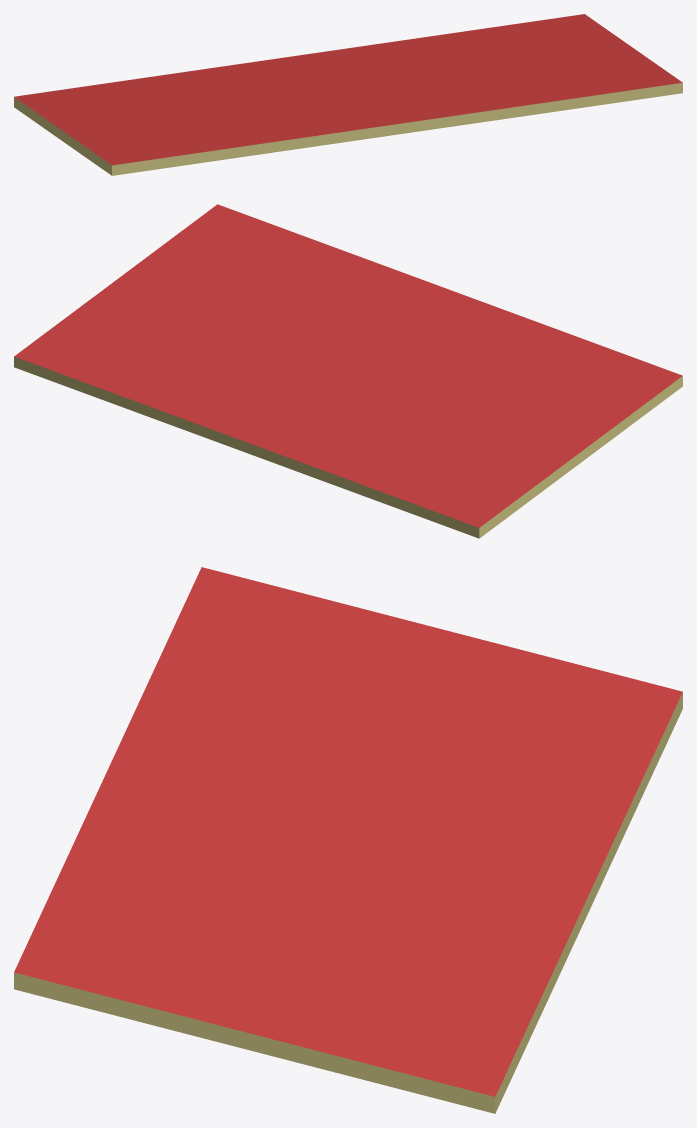
The picture shows the model from 3 angles, top to bottom: view 1: azimuth 30°, elevation 25°; view 2: azimuth 150°, elevation 25°; view 3: azimuth 270°, elevation 25°; orthographic projection. The views are drawn at different scales.
Bounding box in the file's own units: 5.61 × 3.56 × 0.598.
